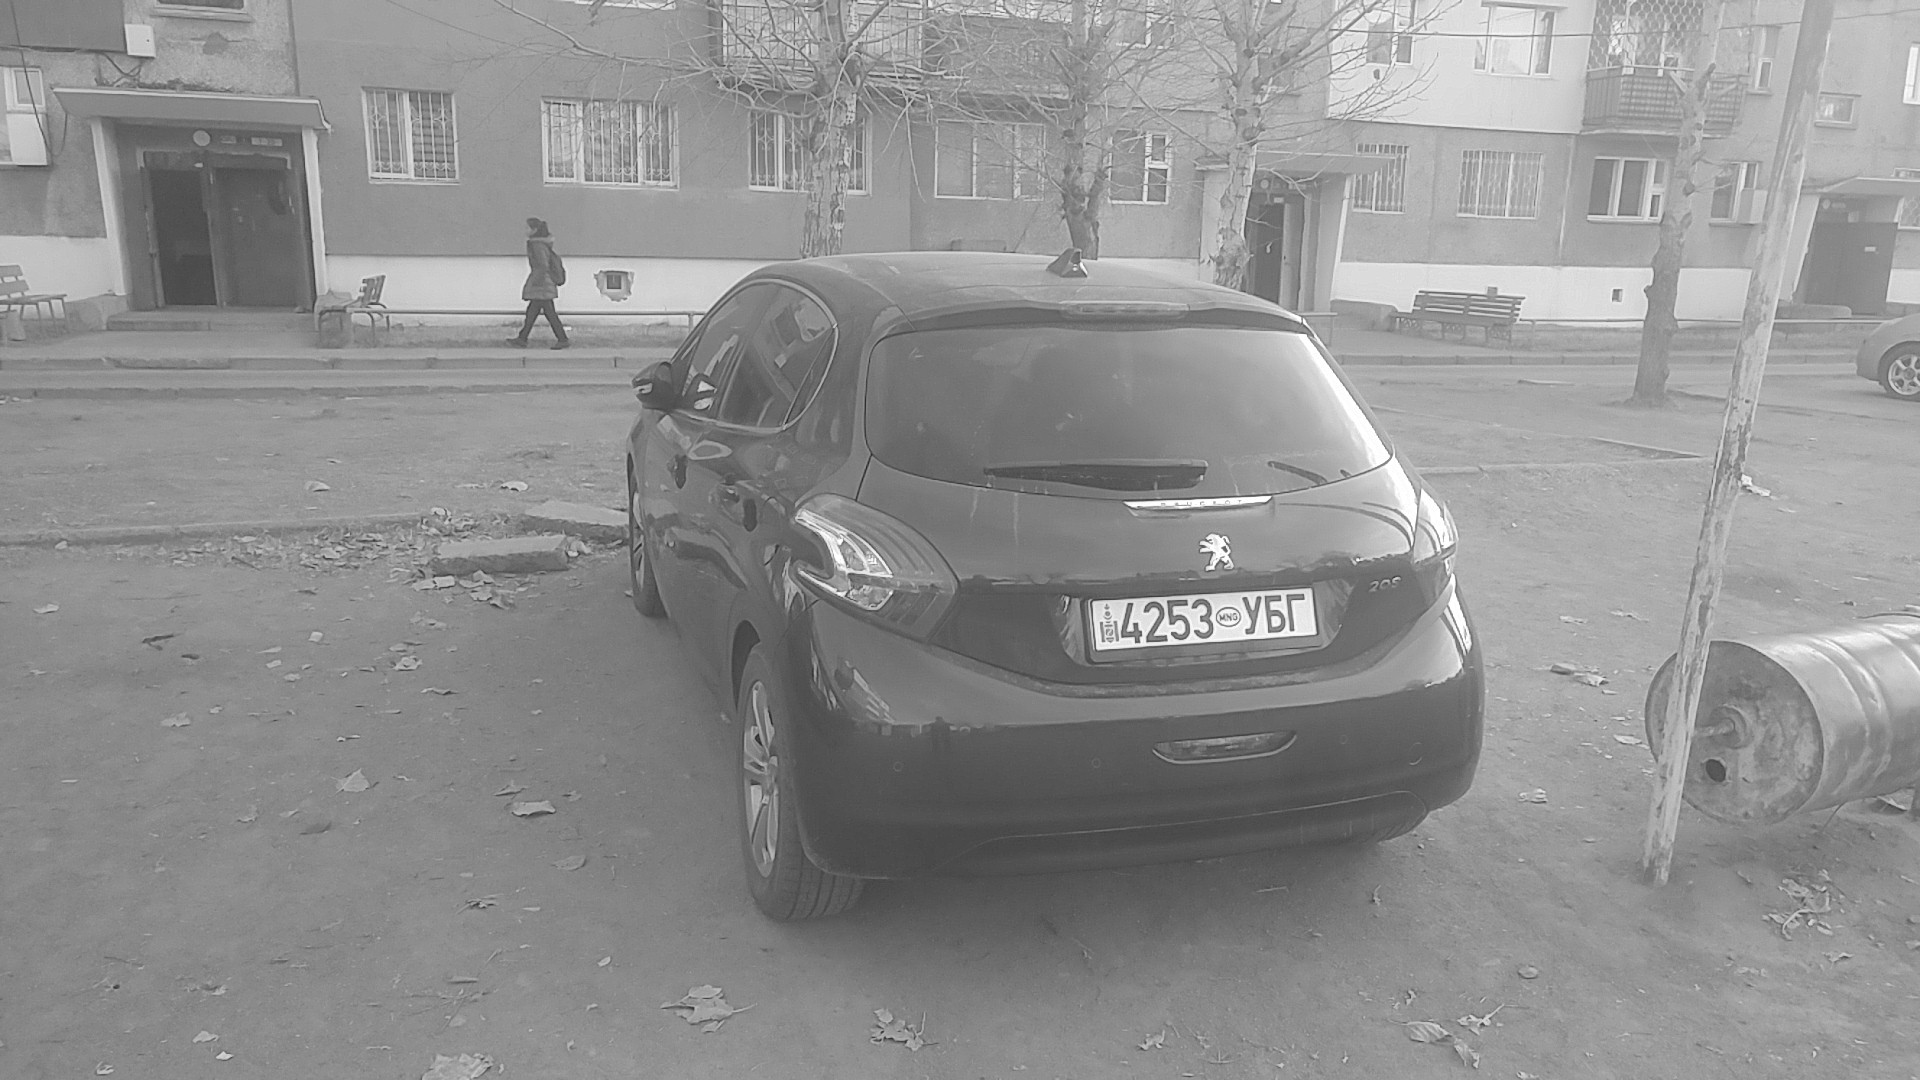2: (1144, 601, 1168, 642)
3: (1191, 598, 1215, 639)
4: (1120, 601, 1143, 644)
5: (1168, 599, 1192, 641)
b: (1264, 594, 1287, 634)
g: (1286, 593, 1306, 632)
plate: (1082, 581, 1326, 664)
u: (1242, 596, 1262, 636)
